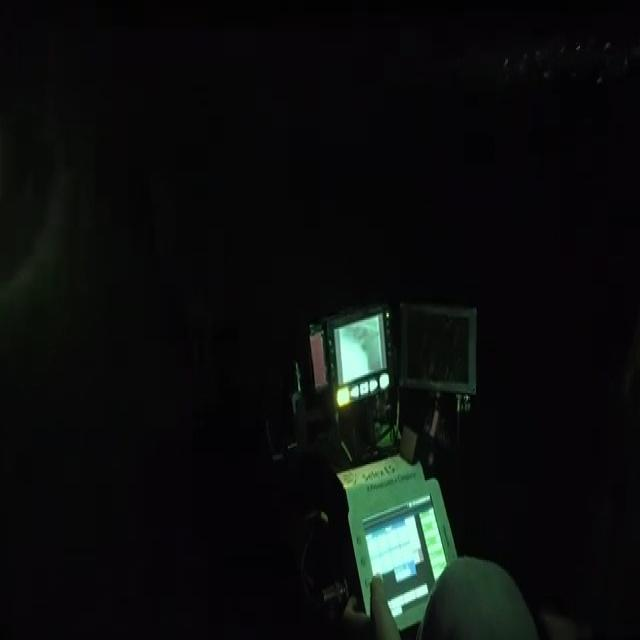device: (263, 258, 492, 620)
